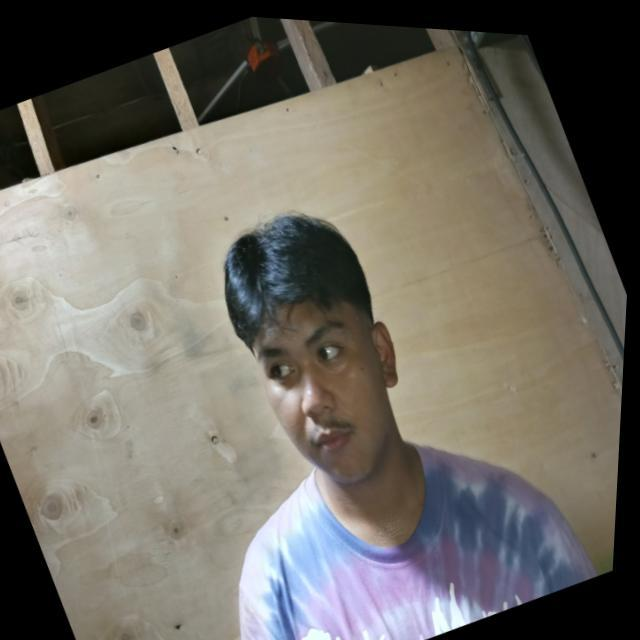Nonhelmet: (220, 209, 405, 486)
